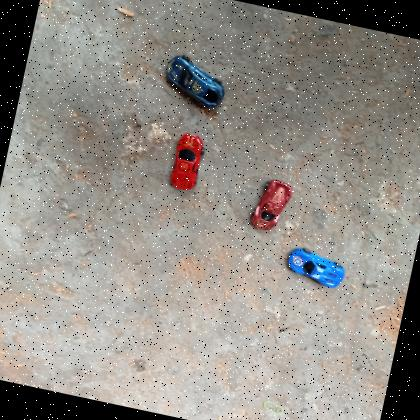Car: (159, 51, 232, 111), (282, 244, 350, 292), (247, 176, 297, 238), (166, 129, 208, 195)
